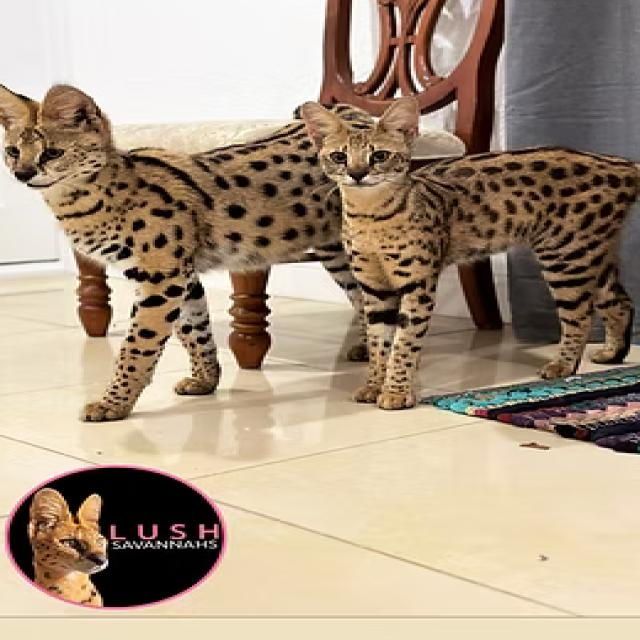Savannah: (298, 92, 640, 412), (0, 71, 298, 423)
